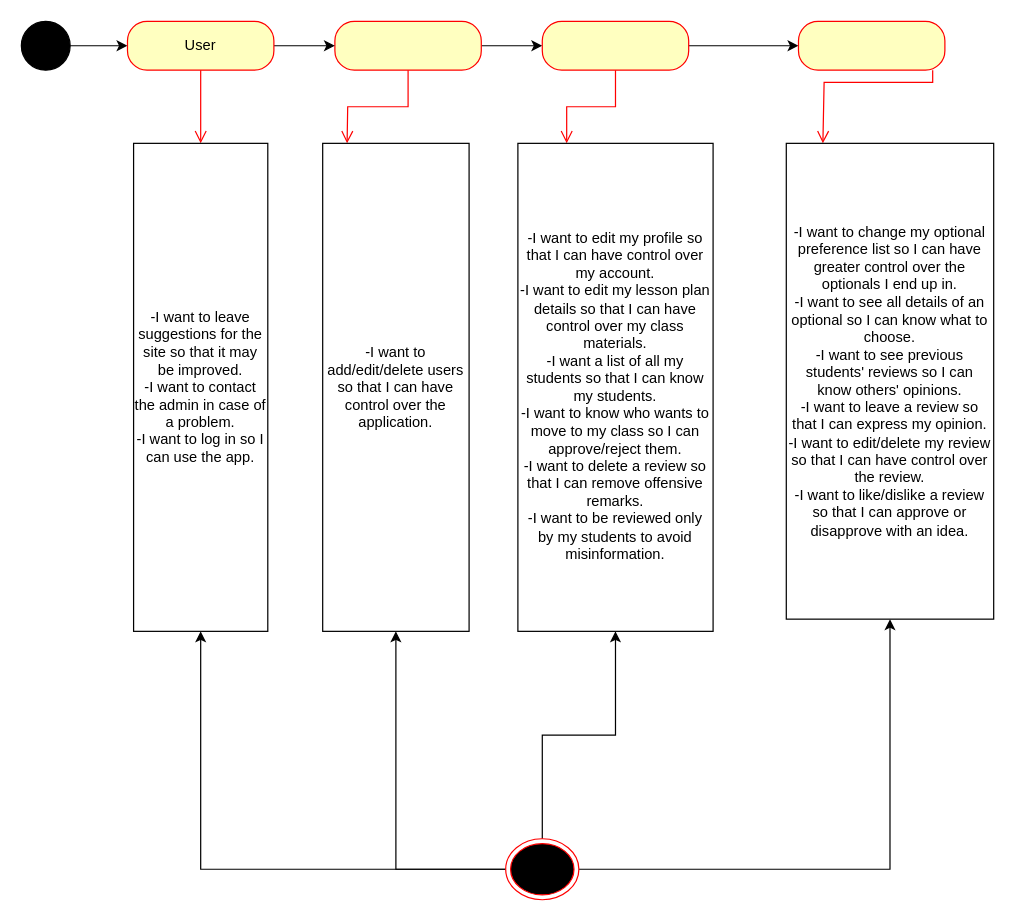
The diagram is 1015 pixels wide and 921 high, and some of its shapes have lost their labels. The centre of each missing label's shape, as x and y in pixels:
"Admin" belongs at point (407, 45).
"Student" belongs at point (871, 45).
"Teacher" belongs at point (615, 45).
